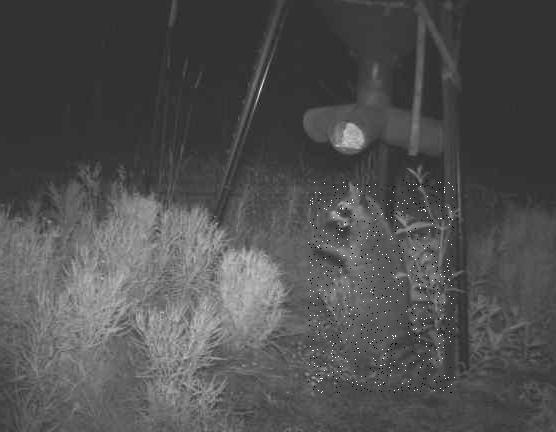Raccoon: (308, 180, 455, 393)
